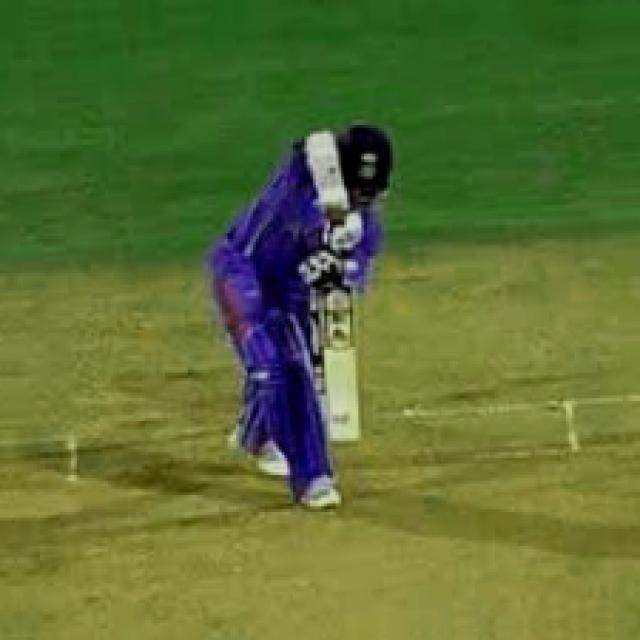bat: (307, 278, 375, 445)
